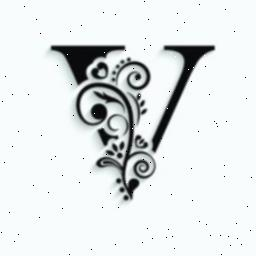v: (45, 36, 221, 204)
